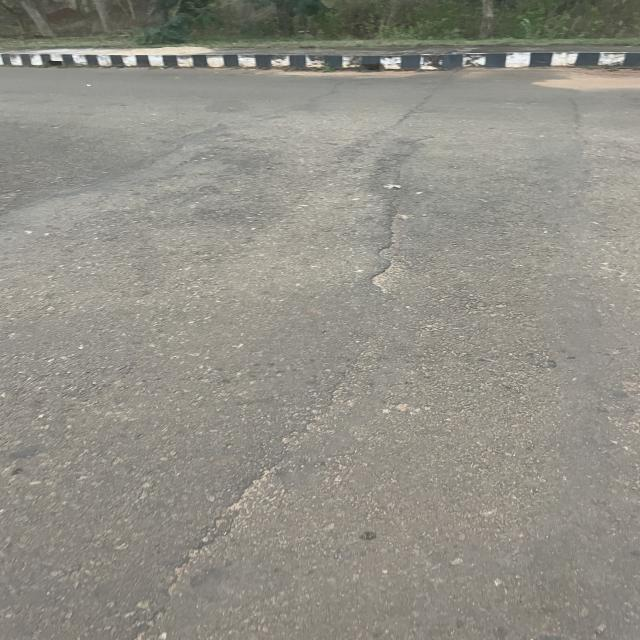D01: (176, 348, 379, 632), (348, 189, 428, 330)
